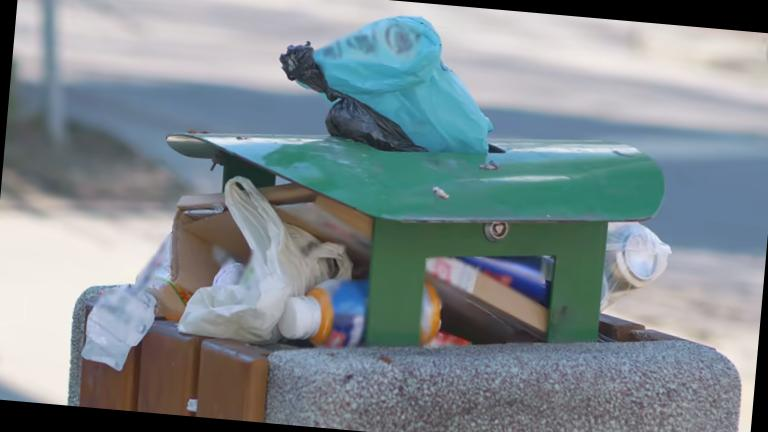trash: (45, 149, 387, 366), (264, 17, 524, 166), (583, 194, 709, 356), (418, 247, 556, 359)
trash_can_overflow: (27, 0, 768, 432)
